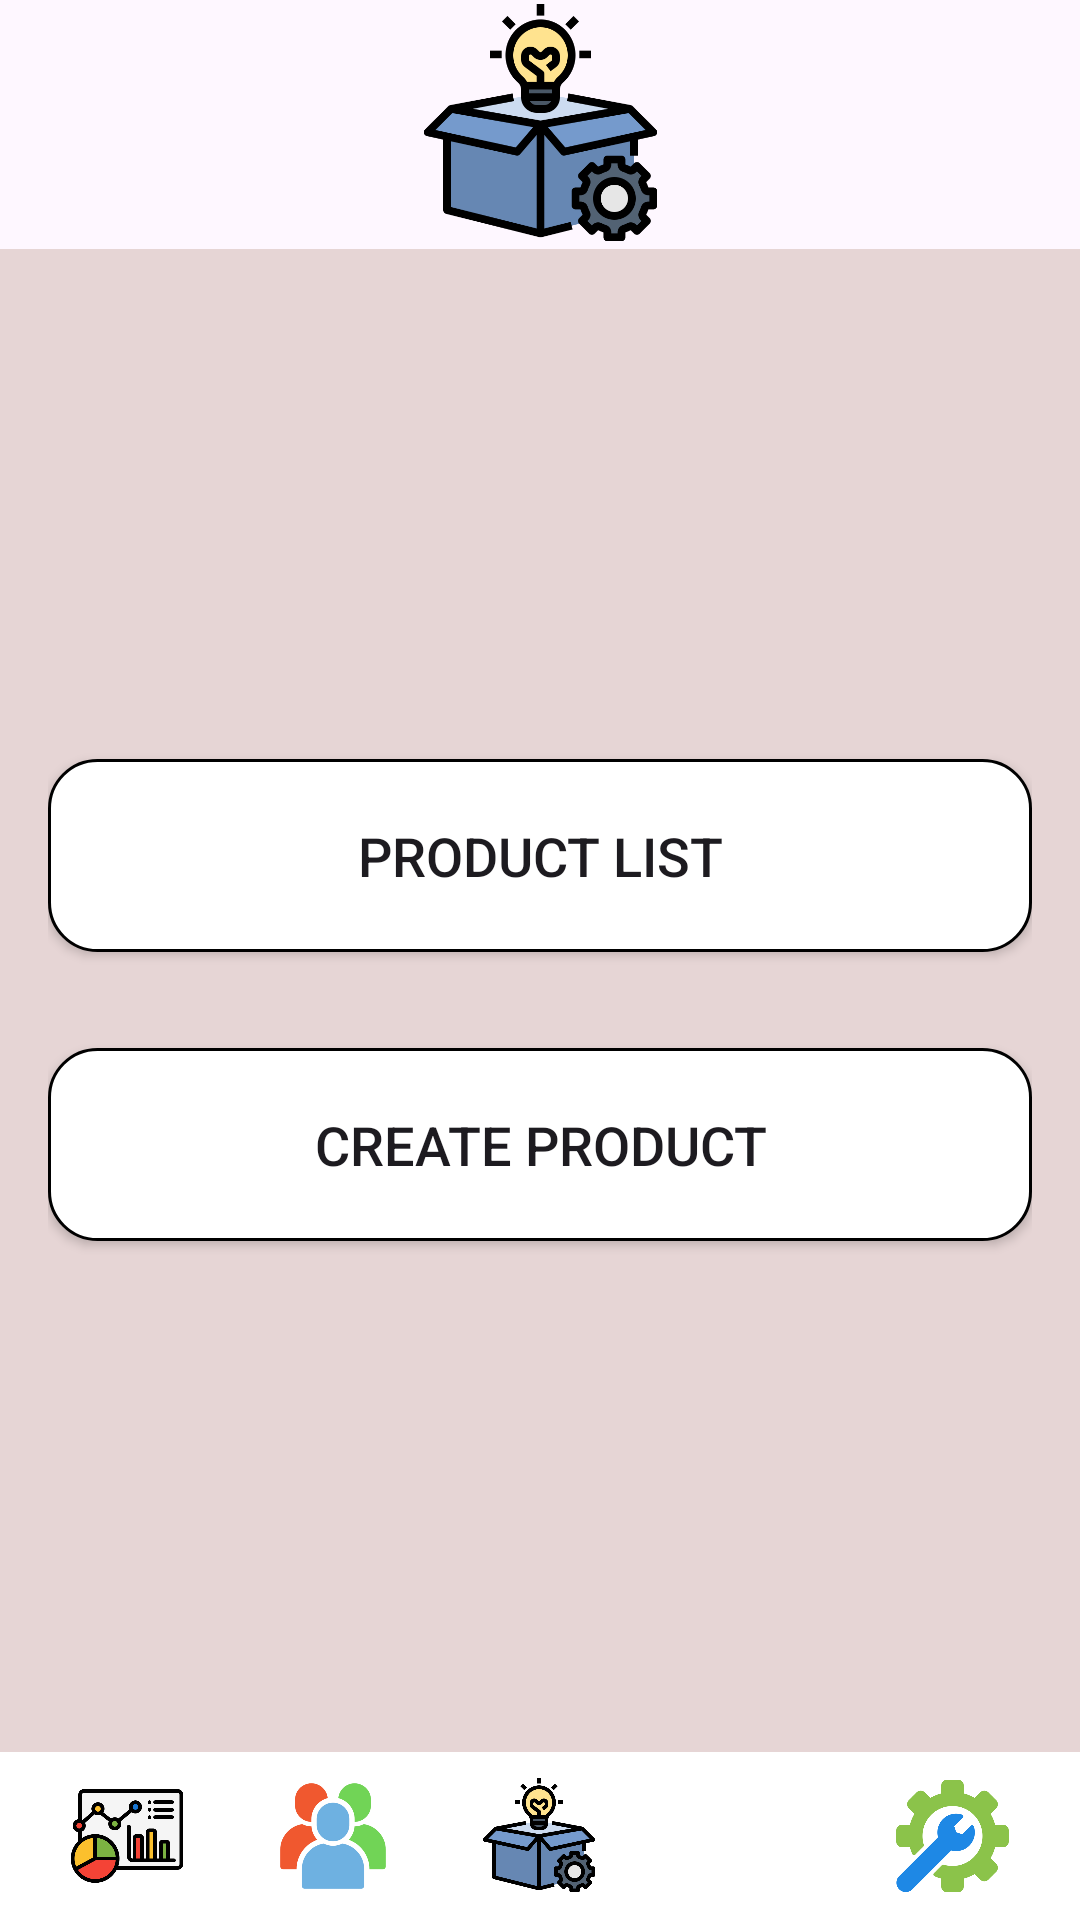

Icons on this 1080px x 1920px Android screen, each with its box as (x1, y1, x2, y2):
dashboard: (71, 1789, 183, 1883)
product: (424, 4, 657, 241), (483, 1778, 595, 1892)
setting: (896, 1780, 1009, 1892)
users: (280, 1783, 386, 1889)
